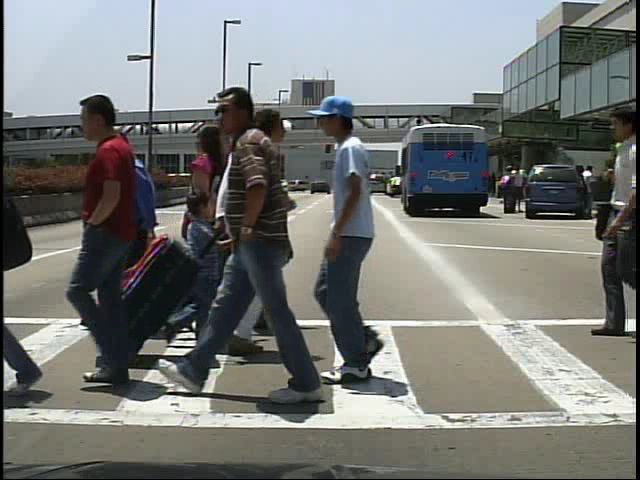person: (198, 84, 335, 424), (55, 91, 169, 389), (177, 101, 291, 363), (320, 104, 418, 384), (88, 122, 172, 342), (222, 134, 297, 330), (184, 129, 257, 322), (182, 121, 240, 361), (590, 104, 640, 342), (179, 187, 220, 319), (582, 164, 602, 218), (498, 166, 516, 219), (513, 165, 530, 215)
